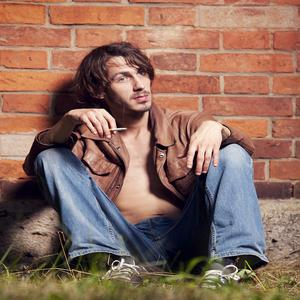cigarette: (107, 127, 128, 131)
